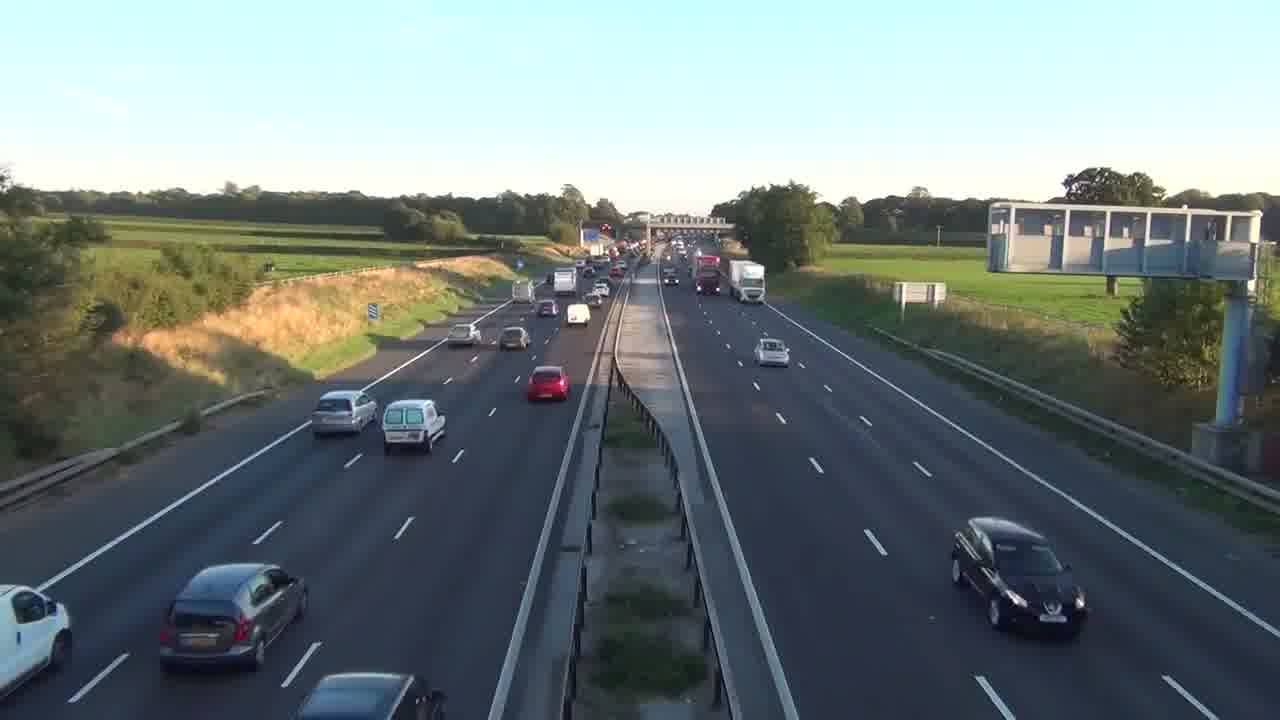car: (951, 515, 1090, 638), (158, 560, 309, 670), (0, 583, 73, 700), (292, 671, 449, 718), (381, 397, 446, 454), (310, 388, 378, 437), (526, 365, 570, 402), (753, 336, 790, 367), (498, 325, 530, 351)
truck: (729, 259, 767, 303)
